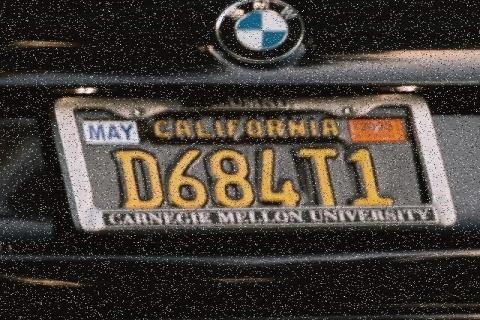LicensePlate: (52, 78, 462, 210)
